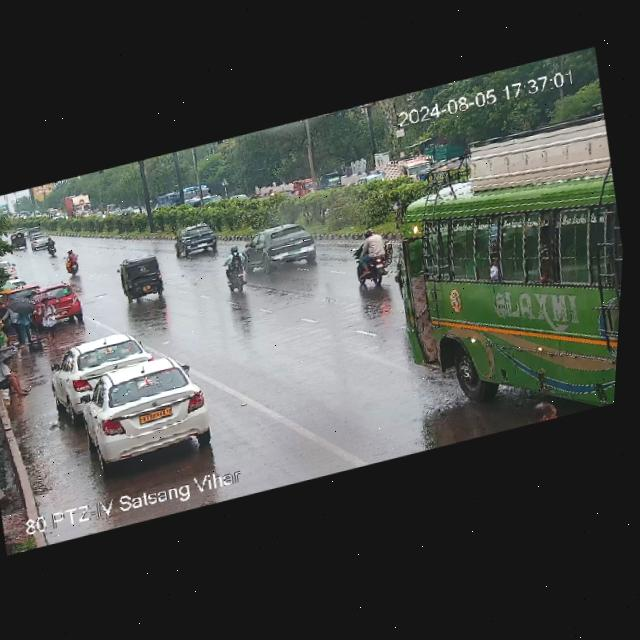bus: (373, 104, 632, 452), (153, 180, 220, 215)
car: (73, 347, 221, 473), (45, 326, 154, 413), (241, 217, 326, 280), (112, 251, 170, 306), (31, 281, 85, 331), (174, 223, 221, 259), (317, 171, 349, 194), (290, 174, 318, 198), (9, 232, 28, 252), (29, 233, 48, 251), (16, 224, 29, 237)
motorcycle: (340, 223, 394, 296), (218, 239, 254, 298), (57, 247, 86, 278), (41, 235, 59, 258)
person: (0, 280, 47, 352), (0, 349, 37, 406), (37, 295, 62, 345)
truck: (384, 149, 431, 180), (63, 190, 96, 222)
